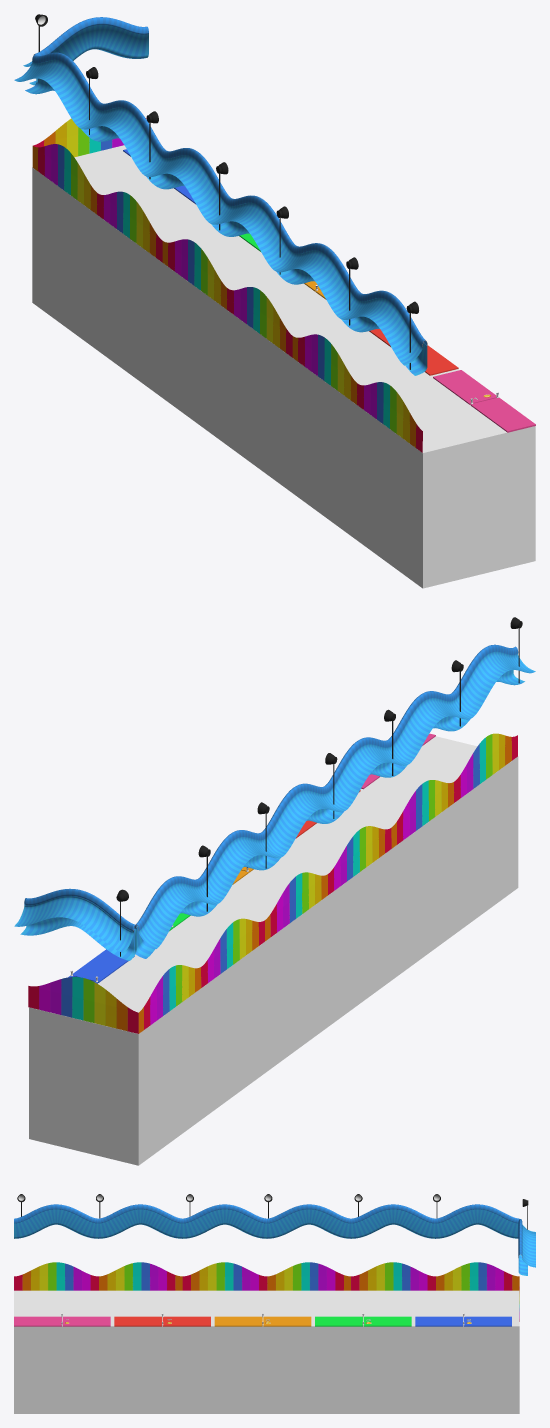
3 renders of one model, top to bottom at view 1: azimuth 30°, elevation 25°; view 2: azimuth 150°, elevation 25°; view 3: azimuth 270°, elevation 25°, orthographic. The views are drawn at different scales.
Visible parts, largest first — view 1: Plane, Final_Platform_Top_1, Final_Platform_Top_2, Final_Platform_Top_3, Final_Platform_Bottom_1, Final_Platform_Bottom_2, Final_Platform_Bottom_3, Final_Platform_Top_4, Final_Platform_Bottom_4, Final_1, Final_1.001; view 2: Plane, Final_Platform_Top_3, Final_Platform_Top_2, Final_Platform_Top_1, Final_Platform_Top_4, Final_Platform_Bottom_2, Final_Platform_Bottom_1, Final_Platform_Bottom_3, Final_Platform_Bottom_4, Final_1.008; view 3: Plane, Final_Platform_Top_2, Final_Platform_Top_1, Final_Platform_Top_3, Final_Platform_Bottom_2, Final_Platform_Bottom_3, Final_Platform_Bottom_1, Final_Platform_Top_4, Final_1.004, Final_1.002, Final_1.008, Final_1.001 (+6 smaller).
Part boxes in pixels (bbox=[...]): Plane: bbox=[32, 145, 535, 588]; Final_Platform_Top_1: bbox=[274, 243, 427, 375]; Final_Platform_Top_2: bbox=[144, 148, 297, 280]; Final_Platform_Top_3: bbox=[14, 52, 167, 185]; Final_Platform_Bottom_1: bbox=[292, 334, 422, 452]; Final_Platform_Bottom_2: bbox=[162, 239, 292, 357]; Final_Platform_Bottom_3: bbox=[32, 144, 162, 262]; Final_Platform_Top_4: bbox=[23, 14, 148, 85]; Final_Platform_Bottom_4: bbox=[33, 118, 146, 157]; Final_1: bbox=[470, 397, 535, 432]; Final_1.001: bbox=[433, 370, 496, 404]; Plane: bbox=[29, 736, 518, 1165]; Final_Platform_Top_3: bbox=[134, 802, 282, 958]; Final_Platform_Top_2: bbox=[260, 709, 408, 866]; Final_Platform_Top_1: bbox=[387, 617, 535, 773]; Final_Platform_Top_4: bbox=[14, 888, 136, 960]; Final_Platform_Bottom_2: bbox=[265, 826, 391, 941]; Final_Platform_Bottom_1: bbox=[391, 733, 517, 848]; Final_Platform_Bottom_3: bbox=[138, 918, 264, 1033]; Final_Platform_Bottom_4: bbox=[28, 977, 138, 1033]; Final_1.008: bbox=[73, 949, 134, 982]; Plane: bbox=[14, 1290, 519, 1413]; Final_Platform_Top_2: bbox=[182, 1194, 351, 1238]; Final_Platform_Top_1: bbox=[14, 1194, 182, 1238]; Final_Platform_Top_3: bbox=[351, 1194, 519, 1238]; Final_Platform_Bottom_2: bbox=[182, 1262, 350, 1290]; Final_Platform_Bottom_3: bbox=[351, 1262, 519, 1290]; Final_Platform_Bottom_1: bbox=[14, 1262, 182, 1290]; Final_Platform_Top_4: bbox=[518, 1199, 535, 1275]; Final_1.004: bbox=[214, 1316, 262, 1326]; Final_1.002: bbox=[114, 1316, 162, 1326]; Final_1.008: bbox=[415, 1316, 463, 1326]; Final_1.001: bbox=[62, 1316, 110, 1326].
Size of what is drawn, in the model's own units: 22.98 by 46.3 by 120.
11 materials, 6 textured.
